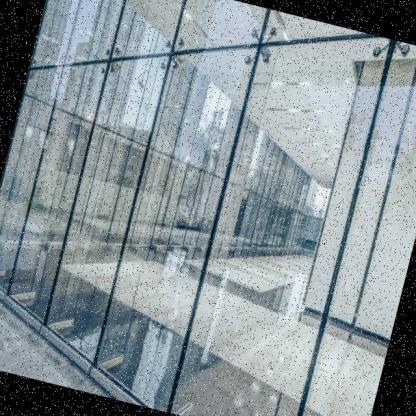Window: (169, 8, 393, 416), (88, 22, 260, 412), (35, 32, 174, 374)
